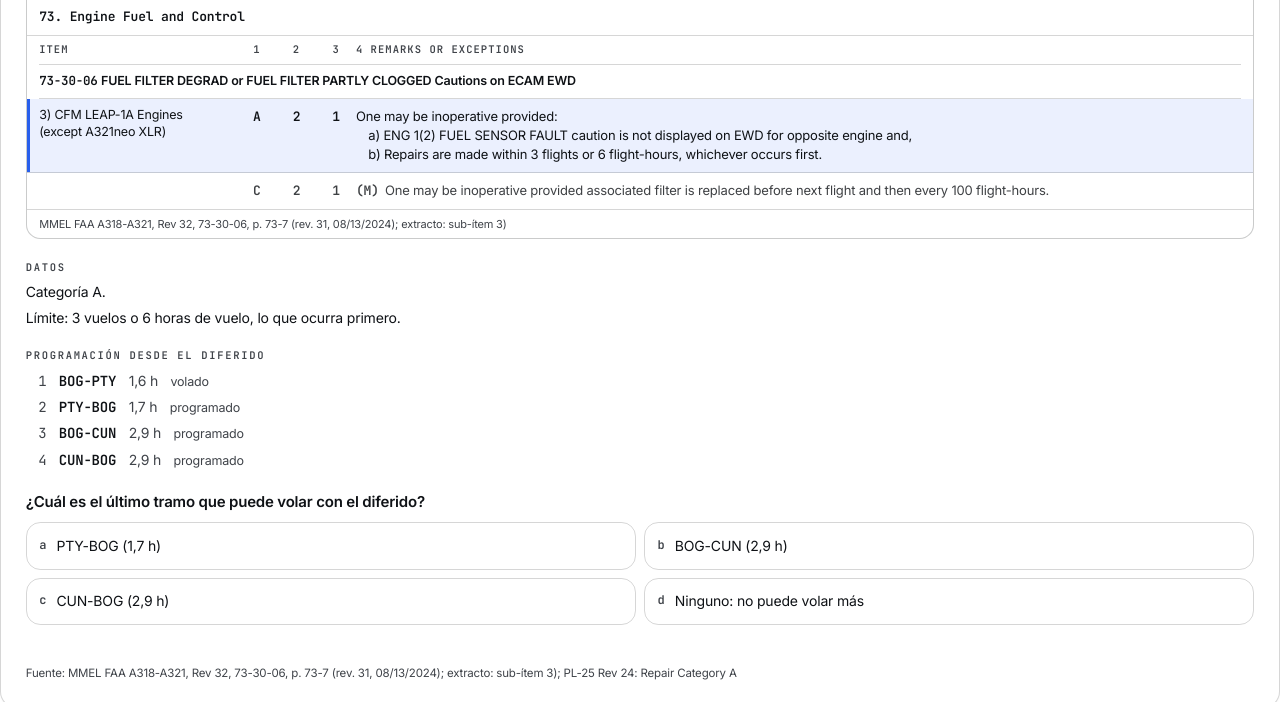
Test: CalculaElPlazo › en tramos: las opciones son los pendientes y «ninguno»
(page scrolled)
Click the button "d Ninguno: no puede volar más": (769, 601) [644,578,1254,625]
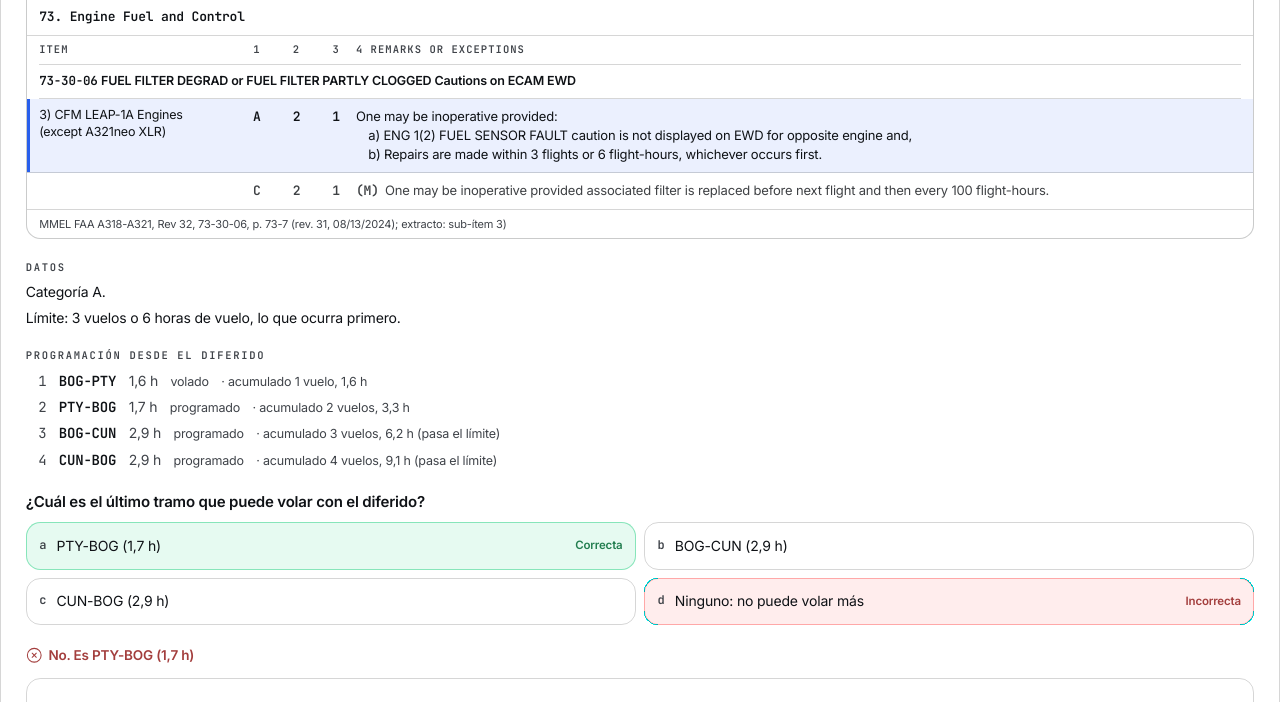
Check: the text "pasa el límite" is shown, box [414,426,500,441]
